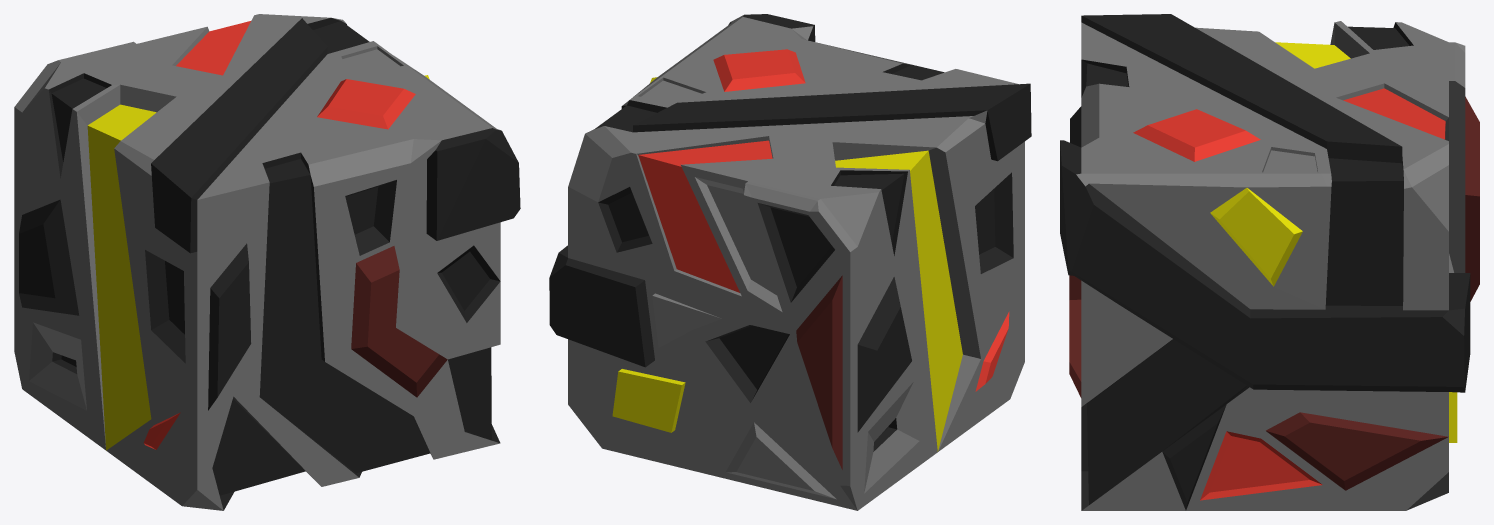
The model's file is Garbage_Cube1.fbx.
3 renders of one model, left to right at view 1: azimuth 30°, elevation 25°; view 2: azimuth 150°, elevation 25°; view 3: azimuth 270°, elevation 25°, orthographic. The views are drawn at different scales.
Parts seen in each view (by area): view 1: Cube.044; view 2: Cube.044; view 3: Cube.044.
Part boxes in pixels (x1=…): Cube.044: x1=14, y1=14, x2=520, y2=510; Cube.044: x1=549, y1=14, x2=1031, y2=510; Cube.044: x1=1060, y1=14, x2=1479, y2=510.
Size of the model in its own units: 0.8944 by 0.8711 by 0.9305.
